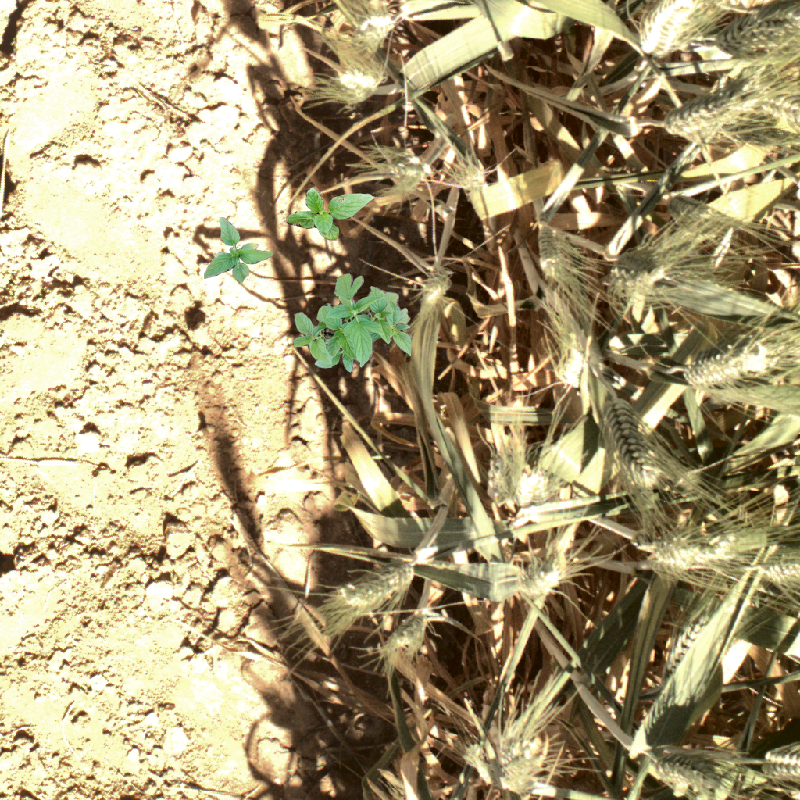spikelet: (601, 392, 666, 493), (680, 333, 791, 392), (643, 523, 749, 576), (628, 746, 728, 800), (660, 88, 759, 142), (331, 553, 418, 611), (604, 239, 674, 303), (722, 1, 800, 58), (658, 608, 714, 685), (633, 1, 704, 60), (491, 732, 553, 798), (530, 215, 578, 287), (519, 552, 573, 606), (326, 62, 386, 107), (348, 3, 399, 51), (753, 540, 800, 591), (757, 739, 799, 789), (415, 259, 455, 306), (767, 87, 800, 135)
weed: (294, 273, 411, 373), (286, 187, 374, 241), (204, 217, 273, 284)
